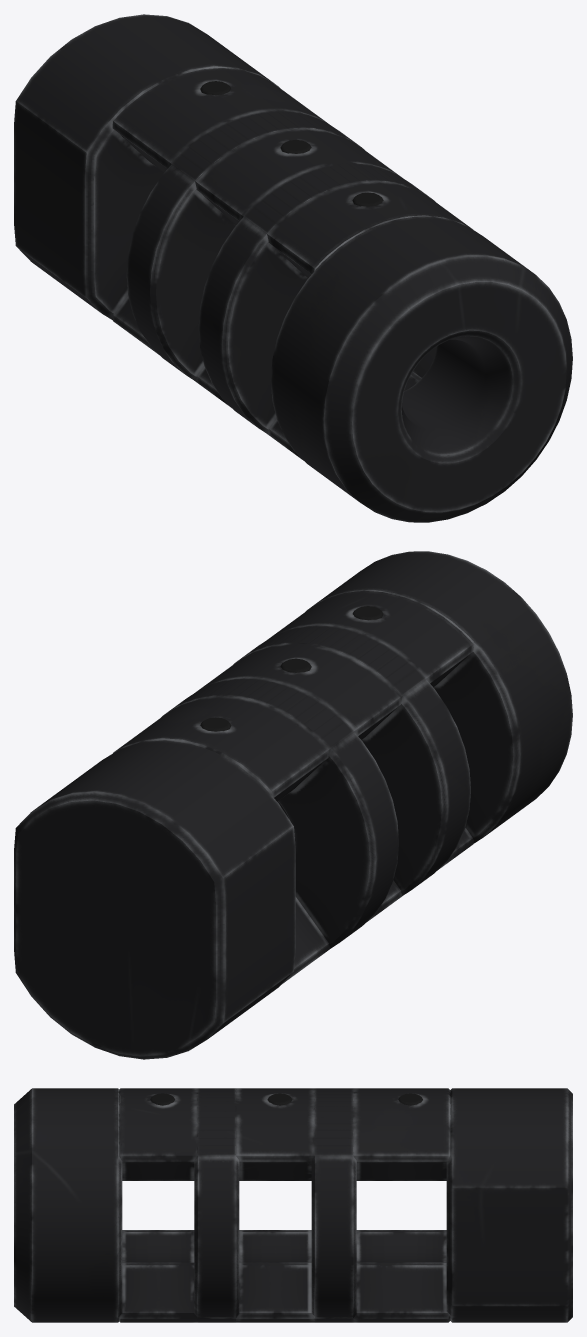
The model's file is Muzzle_Brake.fbx.
3 views of the same model, one above another, from view 1: azimuth 30°, elevation 25°; view 2: azimuth 150°, elevation 25°; view 3: azimuth 270°, elevation 25° (orthographic). The views are drawn at different scales.
Parts seen in each view (by area): view 1: Body; view 2: Body; view 3: Body.
Part boxes in pixels (<box>): Body: <box>14,14,572,522</box>; Body: <box>14,551,572,1059</box>; Body: <box>14,1088,572,1322</box>.
Size of the model in its own units: 0.026 by 0.0262 by 0.062.
